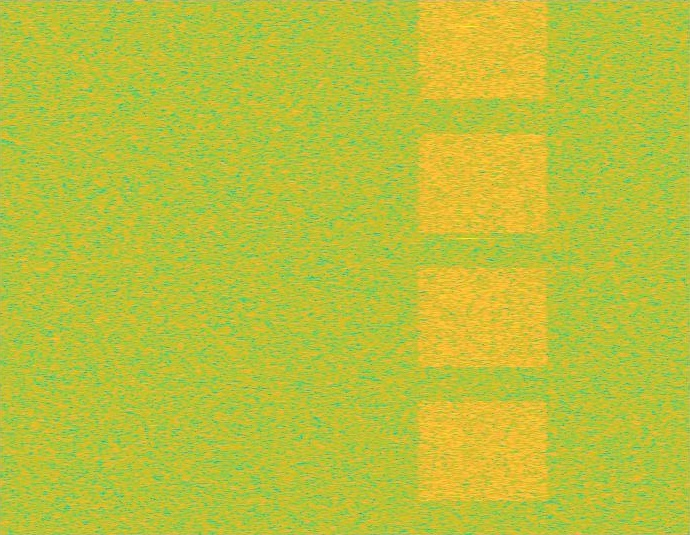5G: (414, 0, 552, 534)
Radar: (462, 0, 476, 534)
